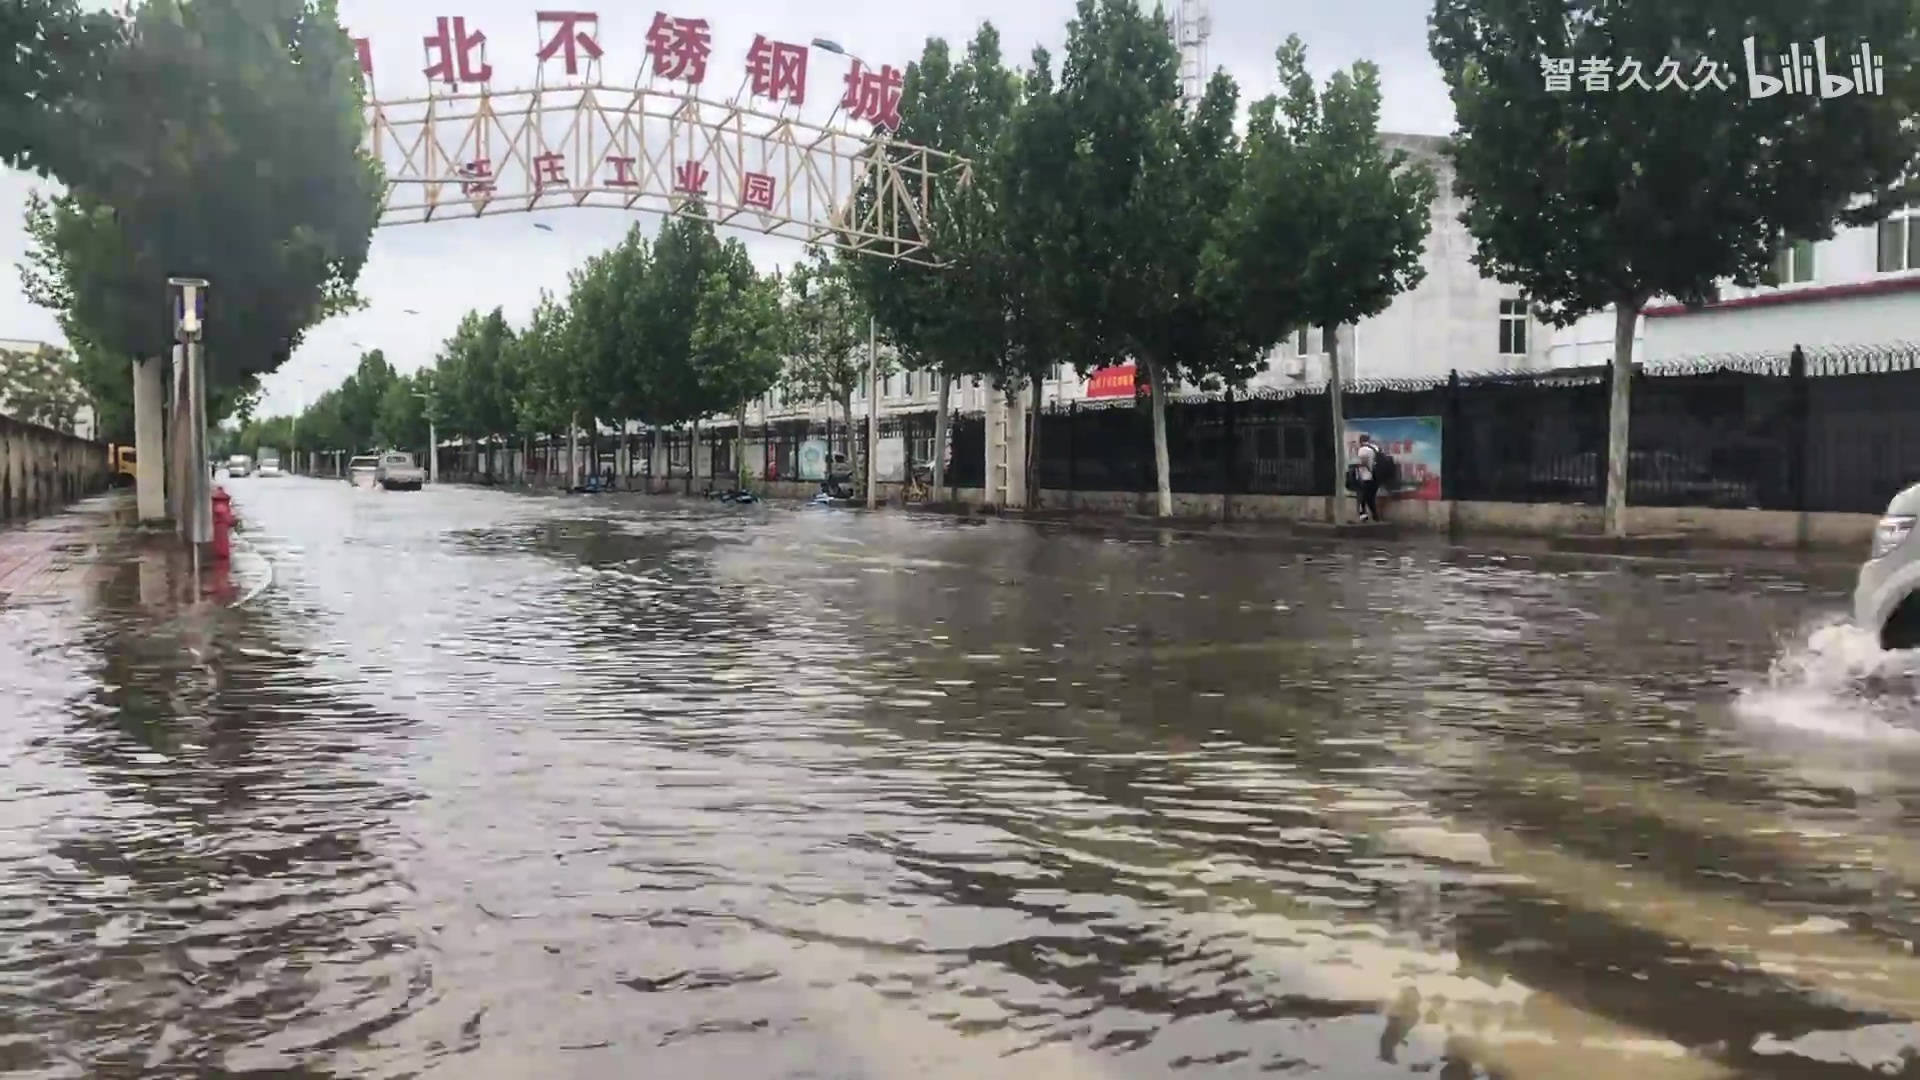puddle: (1, 495, 1919, 1080)
